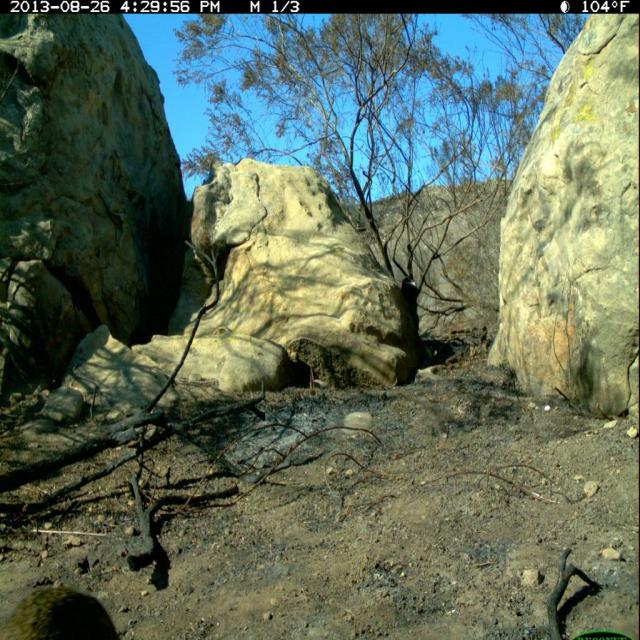rabbit: (6, 575, 138, 640)
